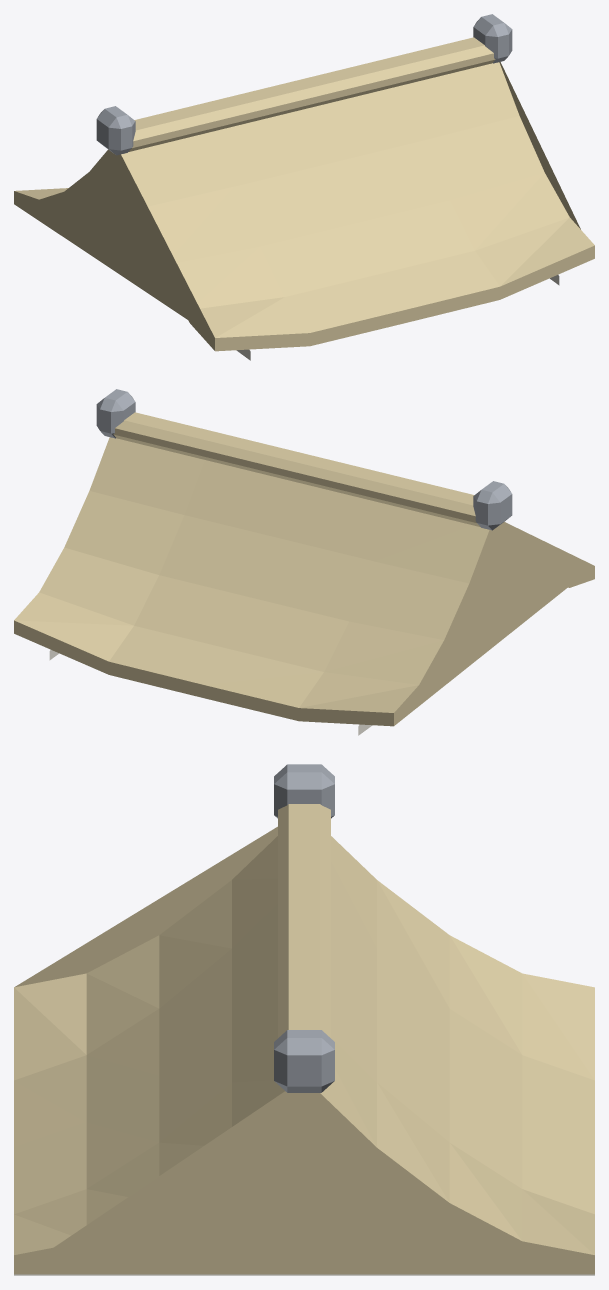
Rendered from feudal-japan-castle-town-thatch-roof-gable-0ae9f138__26317.glb.
3 views of the same model, one above another, from view 1: azimuth 30°, elevation 25°; view 2: azimuth 150°, elevation 25°; view 3: azimuth 270°, elevation 25° (orthographic). The views are drawn at different scales.
Visible parts, largest first — view 1: thatch-roof-gable; view 2: thatch-roof-gable; view 3: thatch-roof-gable.
Part boxes in pixels (x1,y1,x2,y2): thatch-roof-gable: (14,14,594,360); thatch-roof-gable: (14,389,594,735); thatch-roof-gable: (14,764,594,1275).
Size of the model in its own units: 5.1 by 2.22 by 4.4.
